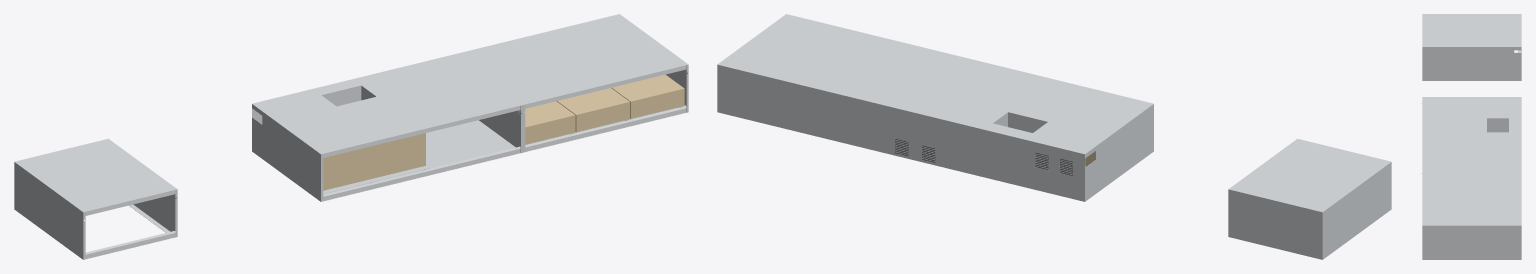
File: modul_U.glb
3 renders of one model, left to right at view 1: azimuth 30°, elevation 25°; view 2: azimuth 150°, elevation 25°; view 3: azimuth 270°, elevation 25°, orthographic. The views are drawn at different scales.
Visible parts, largest first — view 1: U_F_GOVDE__sac, U_KE_GOVDE__sac, U_A_GOVDE__sac, U_ICECEK_YEDEK__karton, U_KUTU_YEDEK__karton, U_F_GOVDE__paslanmaz, U_KE_GOVDE__paslanmaz, U_A_GOVDE__paslanmaz, U_F_BACA__sac; view 2: U_F_GOVDE__sac, U_KE_GOVDE__sac, U_A_GOVDE__sac, U_F_HAVALANDIRMA__plastik, U_F_BACA__sac; view 3: U_KE_GOVDE__sac, U_F_GOVDE__sac, U_A_GOVDE__sac, U_F_BACA__sac.
Boxes of the visible parts, x1,y1,x2,y2 form: U_F_GOVDE__sac: (252,54,522,201); U_KE_GOVDE__sac: (454,14,688,152); U_A_GOVDE__sac: (14,138,177,259); U_ICECEK_YEDEK__karton: (524,74,684,144); U_KUTU_YEDEK__karton: (321,133,425,190); U_F_GOVDE__paslanmaz: (323,106,520,200); U_KE_GOVDE__paslanmaz: (525,65,686,151); U_A_GOVDE__paslanmaz: (85,190,175,258); U_F_BACA__sac: (322,85,375,106); U_F_GOVDE__sac: (883,54,1153,201); U_KE_GOVDE__sac: (717,14,951,152); U_A_GOVDE__sac: (1228,138,1391,259); U_F_HAVALANDIRMA__plastik: (895,139,1072,175); U_F_BACA__sac: (993,112,1047,132); U_KE_GOVDE__sac: (1422,168,1521,259); U_F_GOVDE__sac: (1422,97,1521,167); U_A_GOVDE__sac: (1422,14,1521,80); U_F_BACA__sac: (1487,118,1508,132).
Size of the model in its own units: 4.49 by 0.338 by 0.9065.
